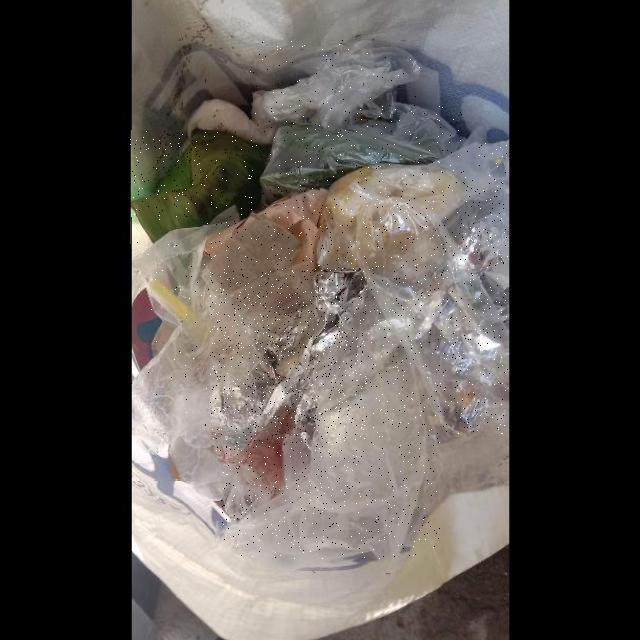biowaste: (131, 130, 269, 244)
metal: (210, 270, 367, 451)
paper: (203, 190, 327, 267)
plastic: (316, 144, 508, 434), (221, 325, 440, 559), (131, 217, 315, 446), (259, 106, 466, 207), (250, 41, 420, 129)
